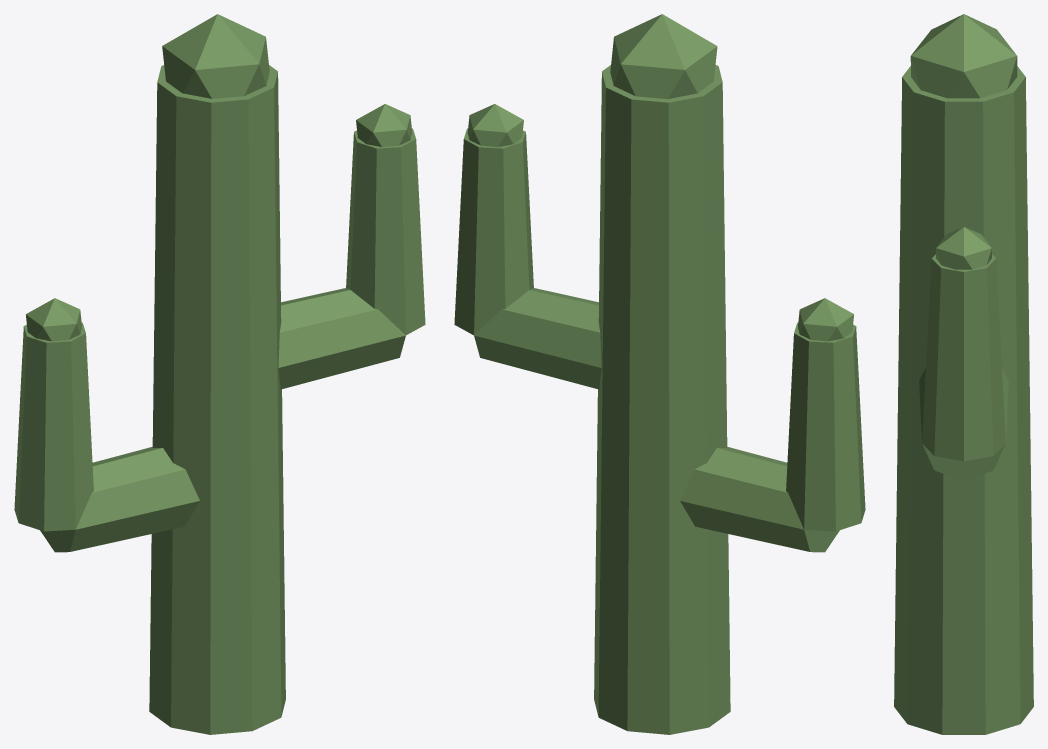
The model's file is arvore_jovem.glb.
3 views of the same model, side by side, from view 1: azimuth 30°, elevation 25°; view 2: azimuth 150°, elevation 25°; view 3: azimuth 270°, elevation 25° (orthographic).
Parts seen in each view (by area): view 1: deserto_arvore_jovem; view 2: deserto_arvore_jovem; view 3: deserto_arvore_jovem.
Boxes of the visible parts, <box> form: deserto_arvore_jovem: <box>14,14,425,734</box>; deserto_arvore_jovem: <box>454,14,865,734</box>; deserto_arvore_jovem: <box>894,14,1033,734</box>.
Bounding box in the file's own units: 0.866 × 1.42 × 0.26.
